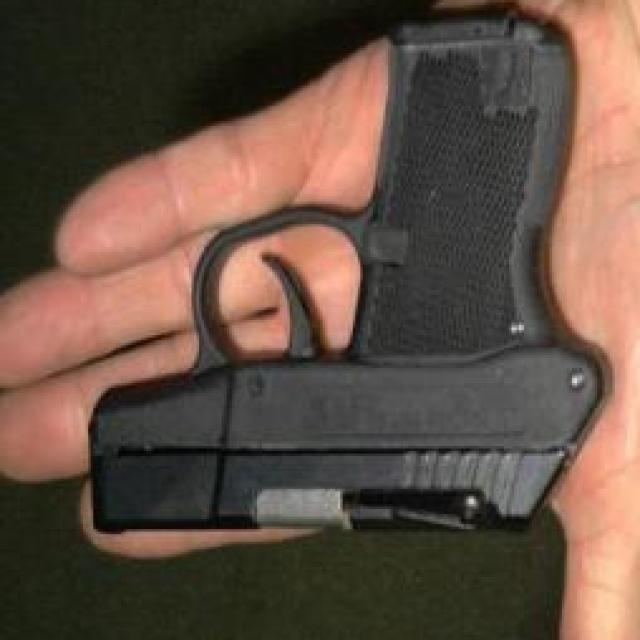pistol: (87, 10, 612, 544)
